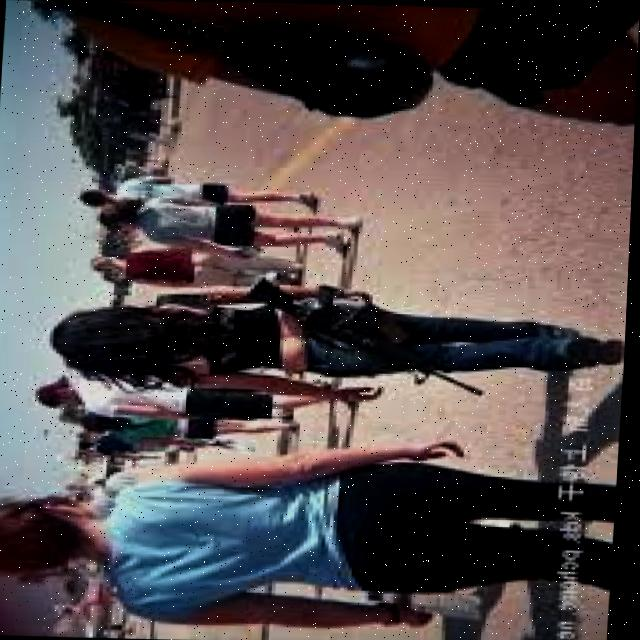firearm: (245, 280, 495, 395)
